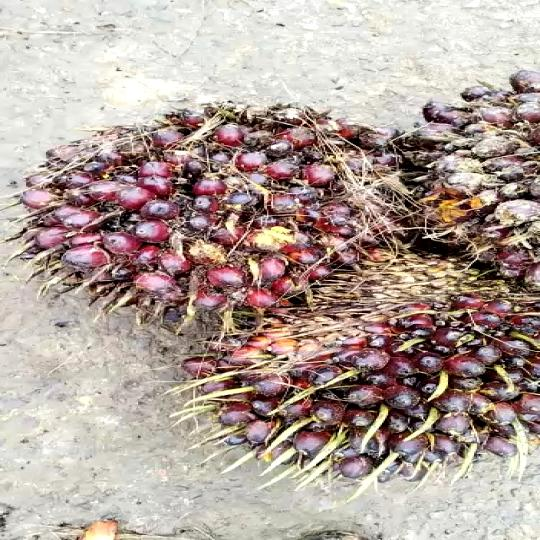kurang masak: (10, 83, 418, 331), (166, 250, 540, 488)
